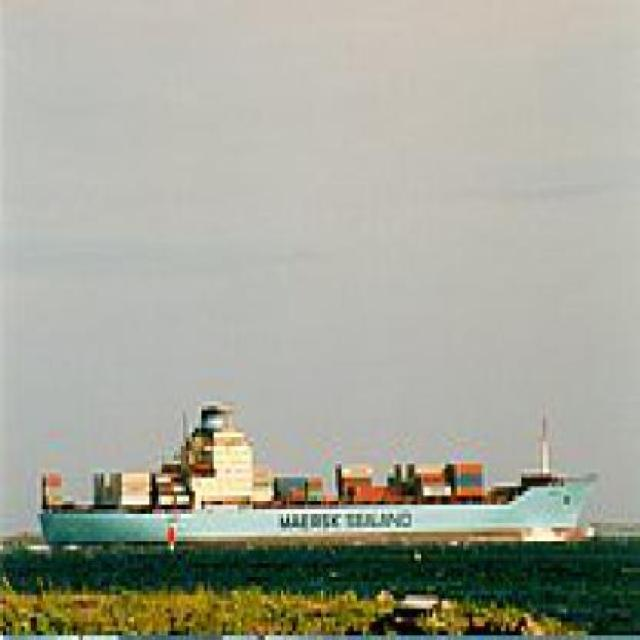container: (31, 370, 608, 569)
